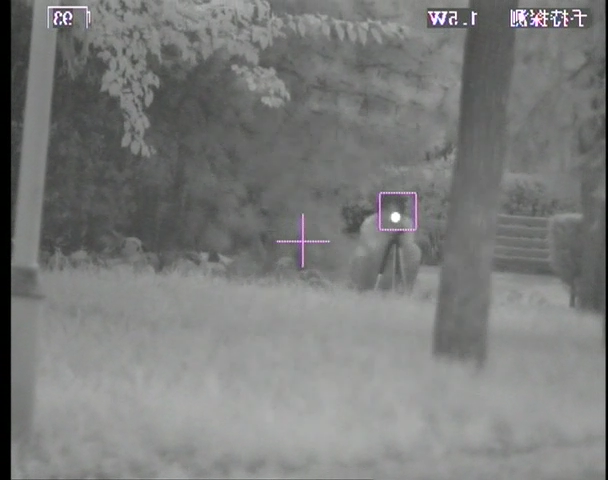my: (390, 209, 403, 224)
